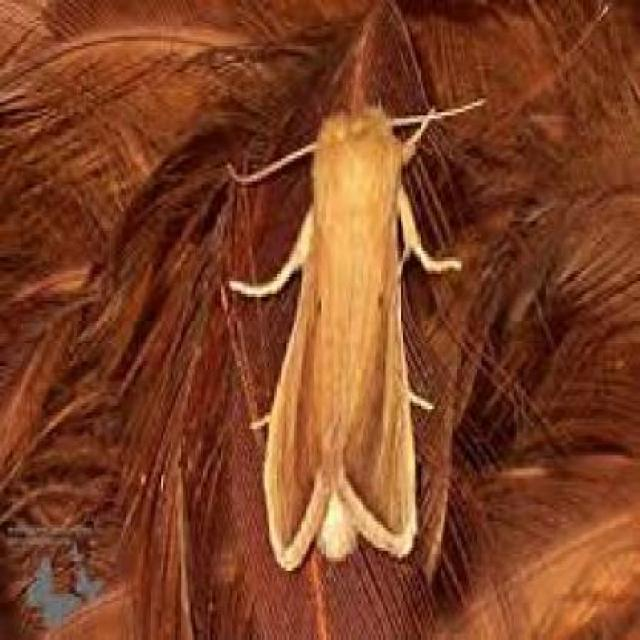stem-borer: (260, 100, 428, 574)
